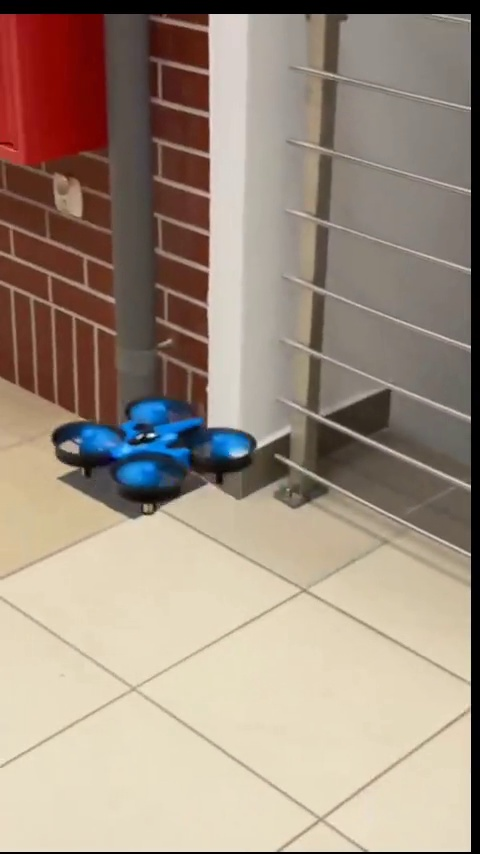drone: (48, 398, 251, 522)
